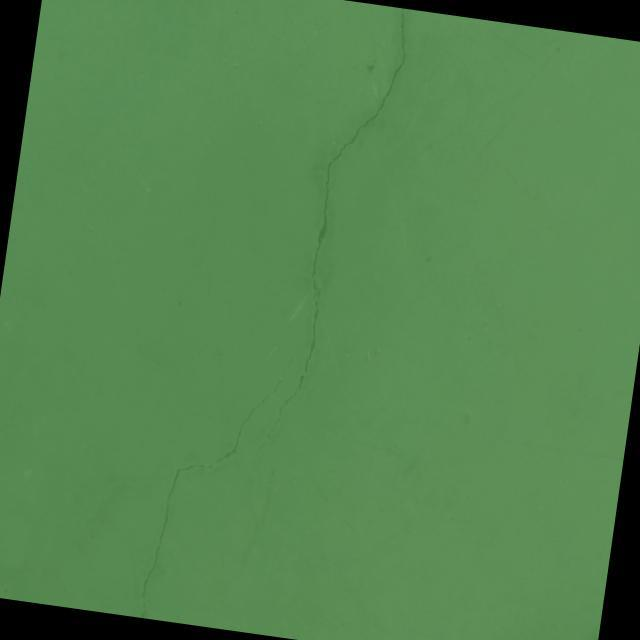crack: (258, 0, 412, 463), (138, 341, 294, 634)
